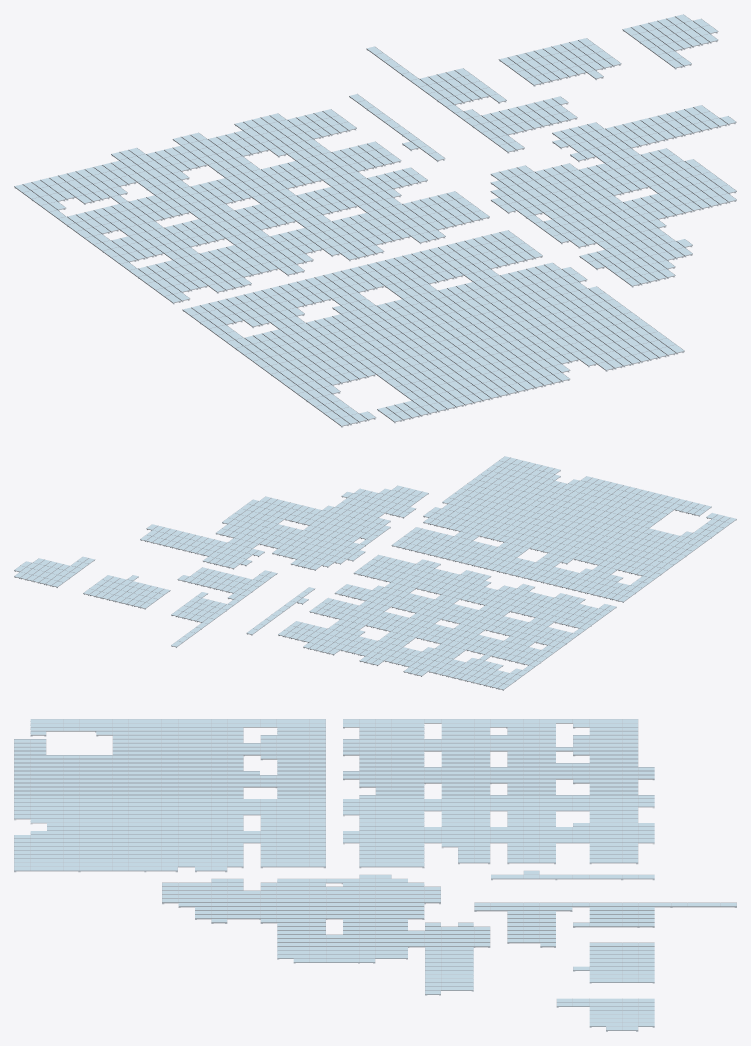
Rendered from SM_MPR3_SolarBank_02_0.fbx.
3 views of the same model, one above another, from view 1: azimuth 30°, elevation 25°; view 2: azimuth 150°, elevation 25°; view 3: azimuth 270°, elevation 25° (orthographic). The views are drawn at different scales.
Visible parts, largest first — view 1: SM_MPR3_SolarBank_02_0; view 2: SM_MPR3_SolarBank_02_0; view 3: SM_MPR3_SolarBank_02_0.
Boxes of the visible parts, x1,y1,x2,y2 form: SM_MPR3_SolarBank_02_0: (14, 14, 736, 427); SM_MPR3_SolarBank_02_0: (14, 456, 736, 690); SM_MPR3_SolarBank_02_0: (14, 719, 736, 1031).
Bounding box in the file's own units: 8729 × 8574 × 24.
